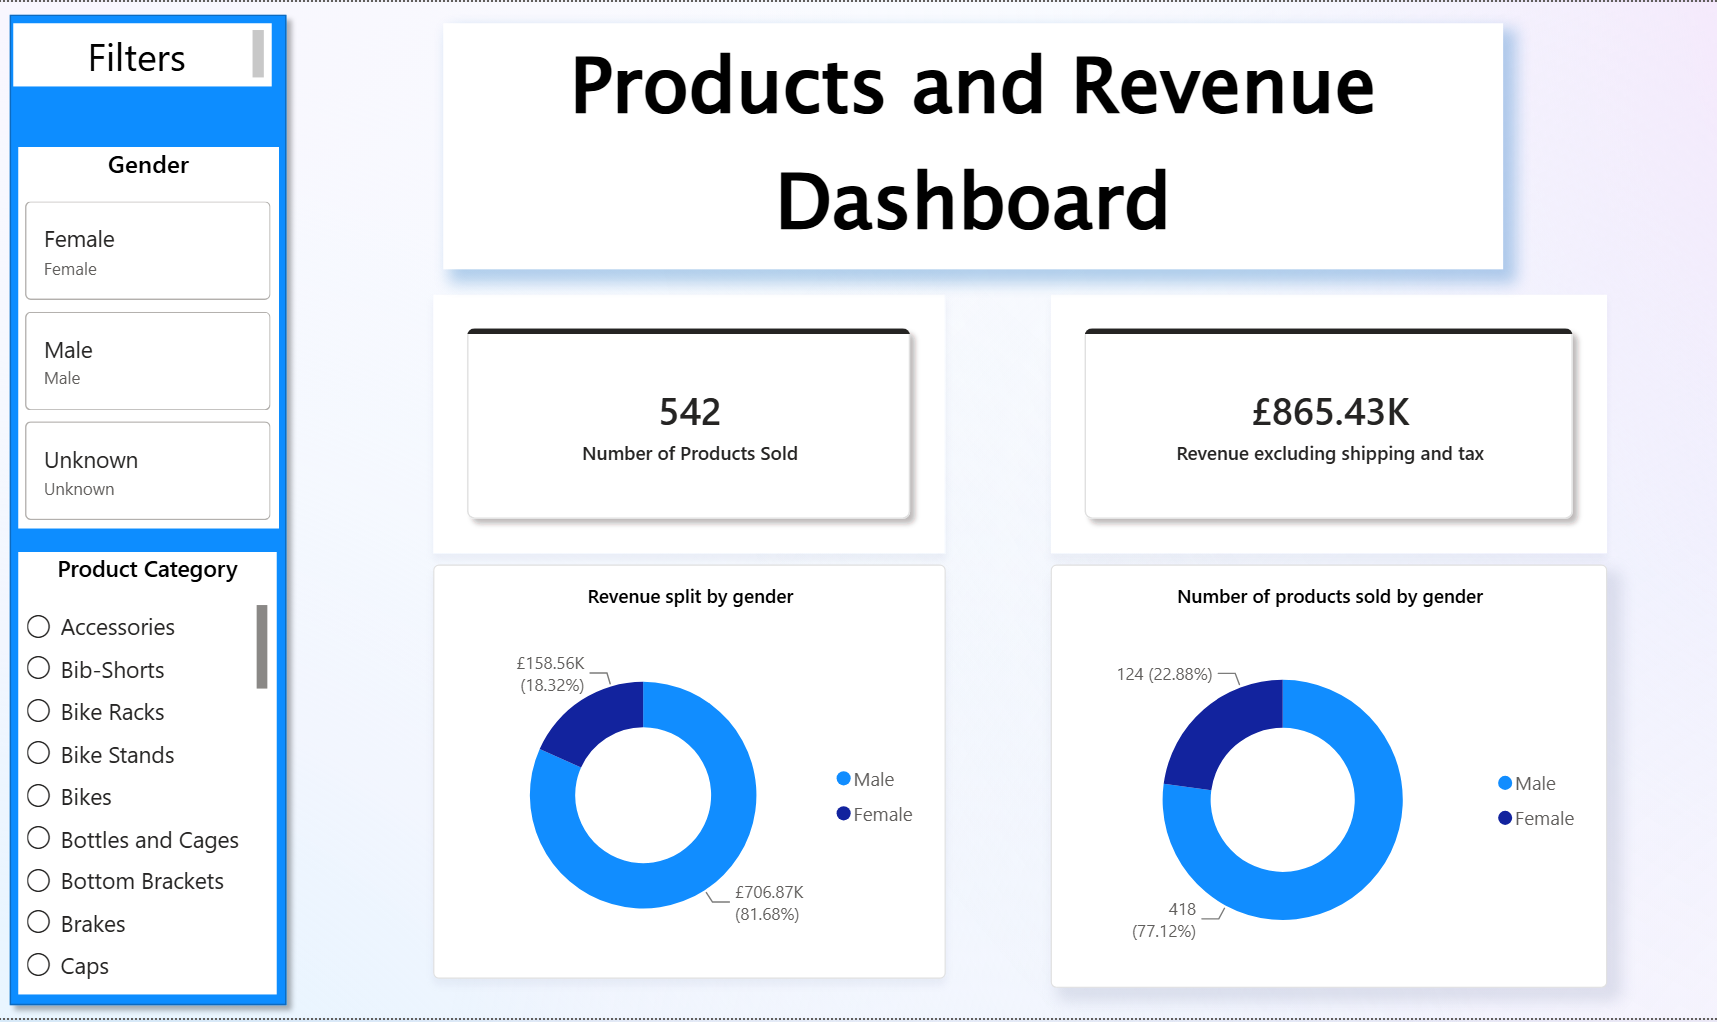

The page's visual inventory and layout, read from the dashboard file:
{"tool":"powerbi","page":{"name":"Page 1","canvas":[1280,720],"ordinal":0},"visuals":[{"type":"shape","title":"section_filter_background","box":[0,0,214.2,720],"z":0},{"type":"cardVisual","fields":{"Data":["CountNonNull(SalesOrderDetail.product_id)"]},"box":[308.9,207.1,362.9,183.8],"z":1000},{"type":"cardVisual","fields":{"Data":["Sum(SalesOrderHeader.sub_total)"]},"box":[746.7,207.5,394.2,183.8],"z":2000},{"type":"donutChart","fields":{"Category":["Customer.gender"],"Y":["Sum(SalesOrderHeader.sub_total)"]},"box":[308.9,398.5,362.9,293.8],"z":3000},{"type":"donutChart","fields":{"Category":["Customer.gender"],"Y":["CountNonNull(SalesOrderDetail.product_id)"]},"box":[747.2,399,394.2,300.4],"z":4000},{"type":"textbox","box":[316.5,15.2,751.4,174.4],"z":5000},{"type":"advancedSlicerVisual","title":"Gender","fields":{"Values":["Customer.gender"],"Label":["Min(Customer.gender)"]},"box":[15.2,102.3,184.8,270.1],"z":6000},{"type":"listSlicer","title":"Product Category","fields":{"Values":["ProductCategory.name"]},"box":[15.2,389.5,182.9,313.7],"z":7000},{"type":"textbox","box":[11.4,15.2,182.9,44.5],"z":8000}]}

Visuals, with their boxes on the page's 1280x720 design canvas (x1, y1, x2, y2). These are canvas units, not pixel positions in the 1717x1022 screenshot, which may show the page scaled, cropped or inside an application window:
"section_filter_background" shape: BBox(0, 0, 214, 720)
cardVisual - CountNonNull(SalesOrderDetail.product_id): BBox(309, 207, 672, 391)
cardVisual - Sum(SalesOrderHeader.sub_total): BBox(747, 208, 1141, 391)
donutChart - Customer.gender x Sum(SalesOrderHeader.sub_total): BBox(309, 398, 672, 692)
donutChart - Customer.gender x CountNonNull(SalesOrderDetail.product_id): BBox(747, 399, 1141, 699)
textbox: BBox(316, 15, 1068, 190)
"Gender" advancedSlicerVisual: BBox(15, 102, 200, 372)
"Product Category" listSlicer: BBox(15, 390, 198, 703)
textbox: BBox(11, 15, 194, 60)
